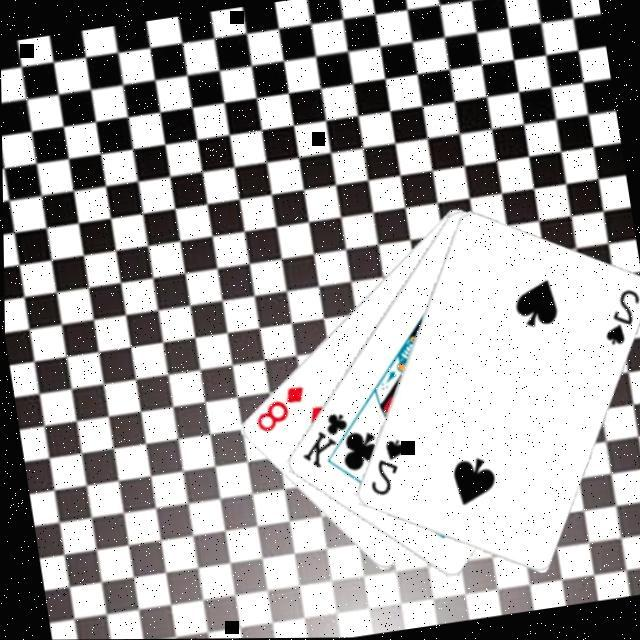2S: (357, 437, 411, 502), (592, 286, 640, 352)
8D: (244, 382, 310, 438)
KC: (288, 408, 364, 476)
